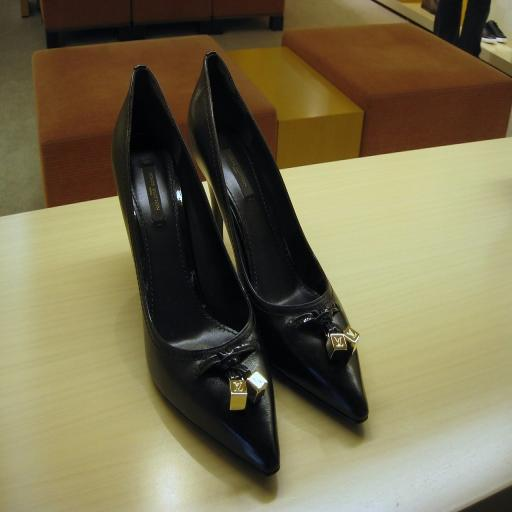heels: (112, 65, 280, 475), (188, 52, 368, 422)
